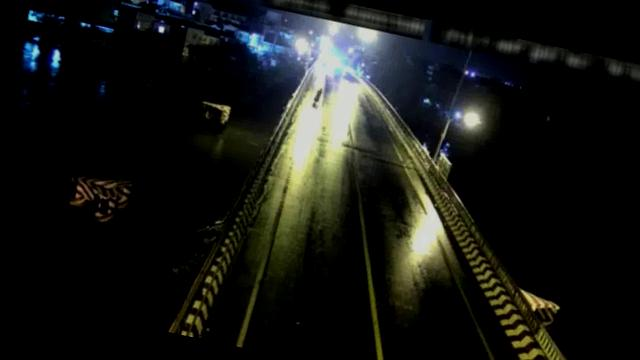Bike: (308, 84, 322, 108)
